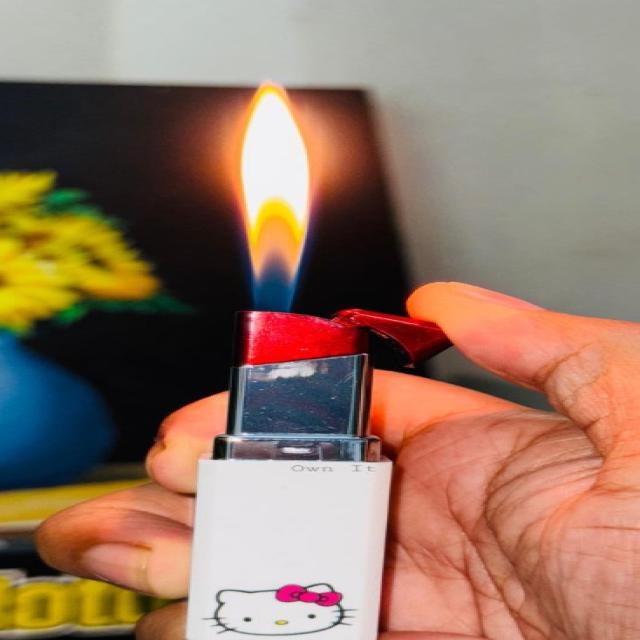fire: (240, 82, 308, 311)
